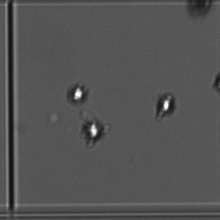Dead Cell: (185, 1, 213, 18)
Living Cell: (80, 117, 106, 143), (66, 82, 90, 105), (153, 93, 177, 116)
